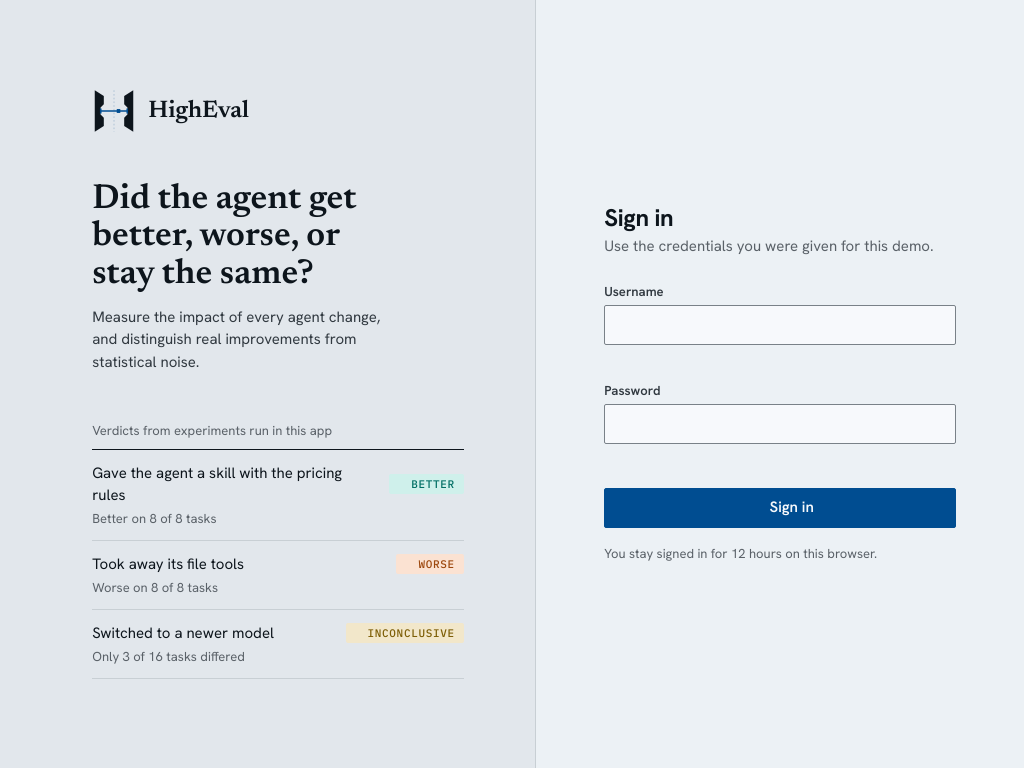
Test case: LoginView › shows a wrong-password error and clears the password
In the field with id "username": (780, 325) top-left (604, 305), bottom-right (956, 345), type "highlevel"
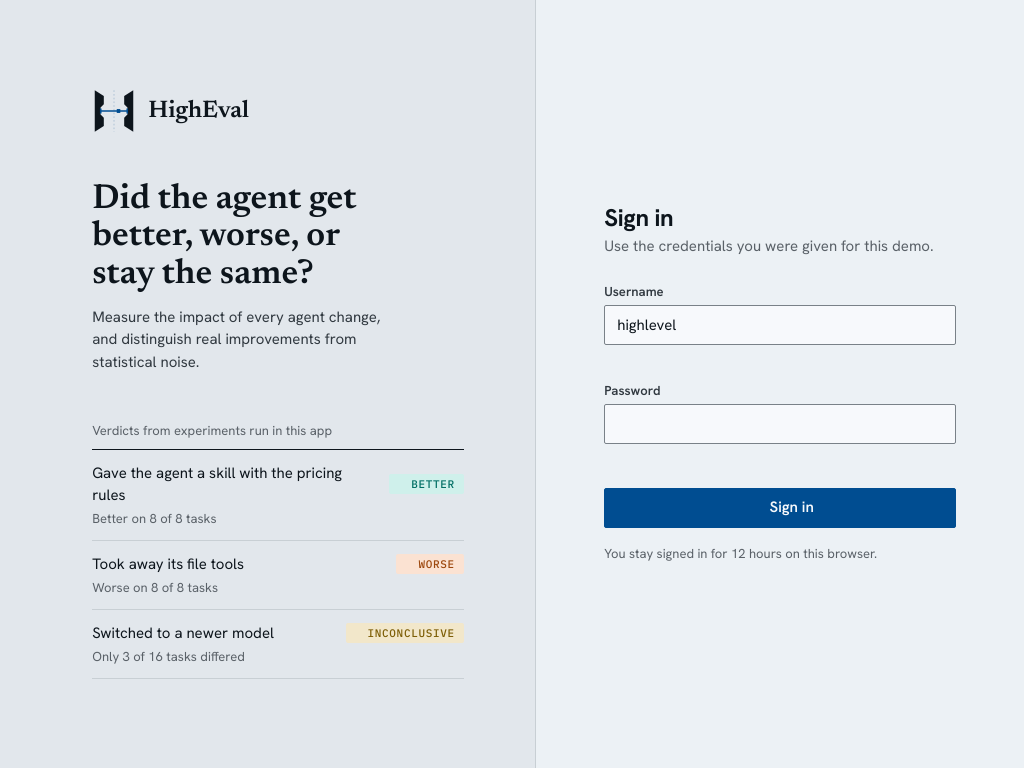
In the password field labelled "Password": (780, 424) top-left (604, 404), bottom-right (956, 444), type "nope"
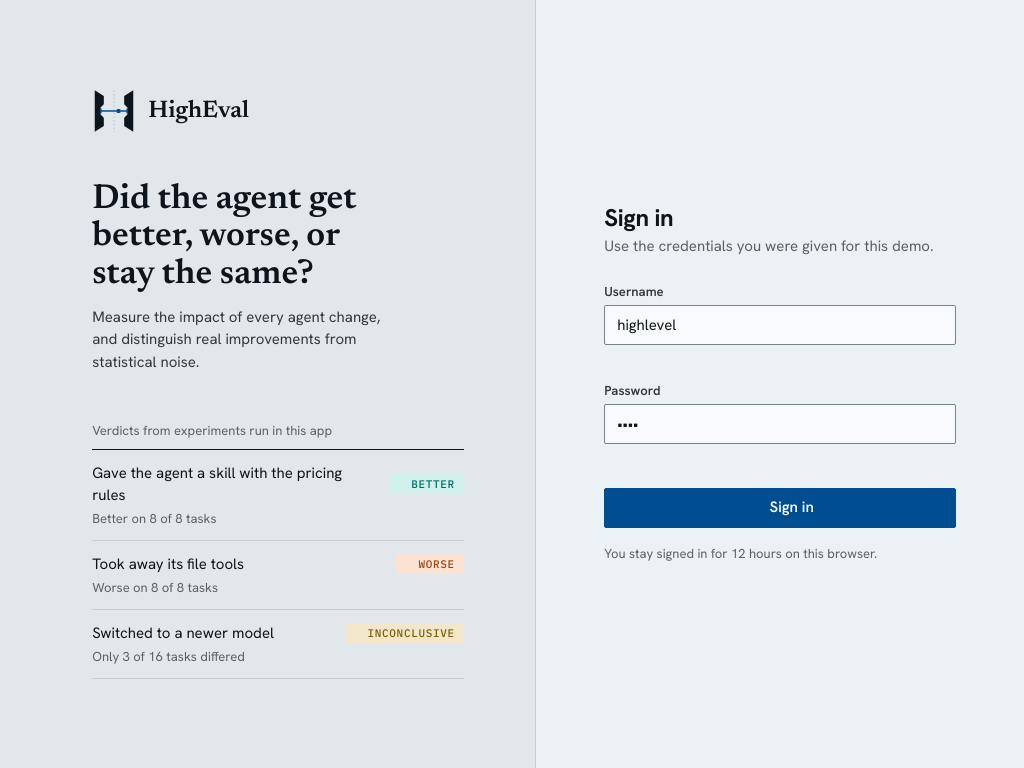
Submit the form, box top-left (604, 282), bottom-right (956, 528)
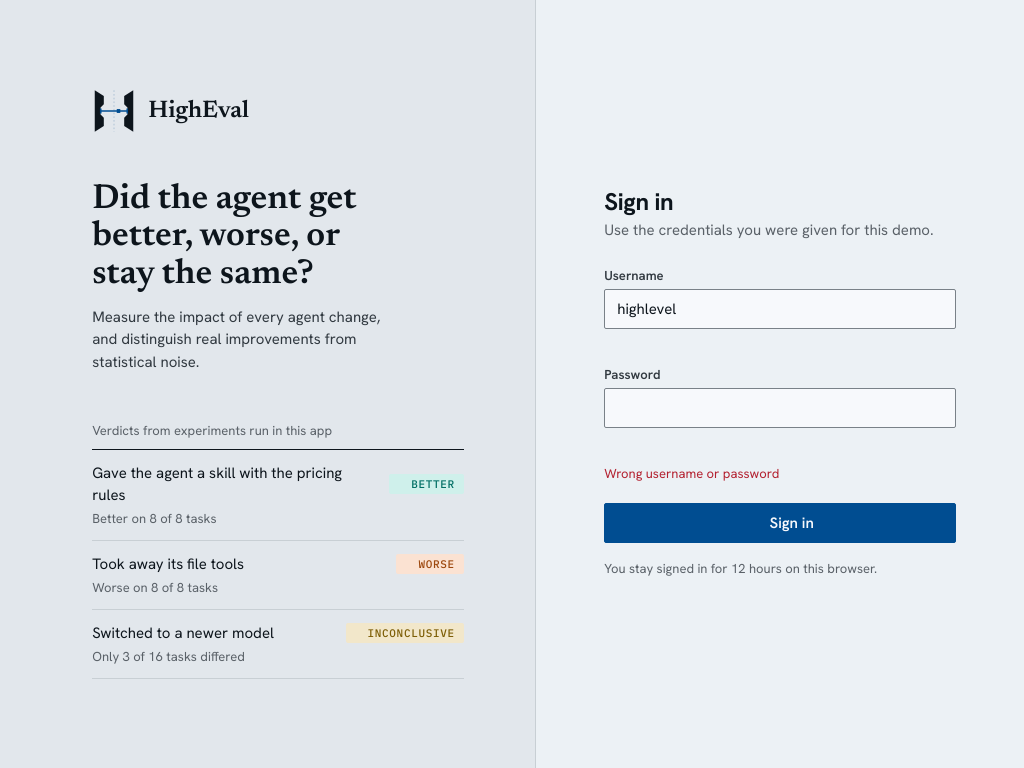
Result: the message "Wrong username or password" is shown at top-left (604, 465), bottom-right (779, 482)
Result: the password field labelled "Password" is empty at top-left (604, 388), bottom-right (956, 428)
